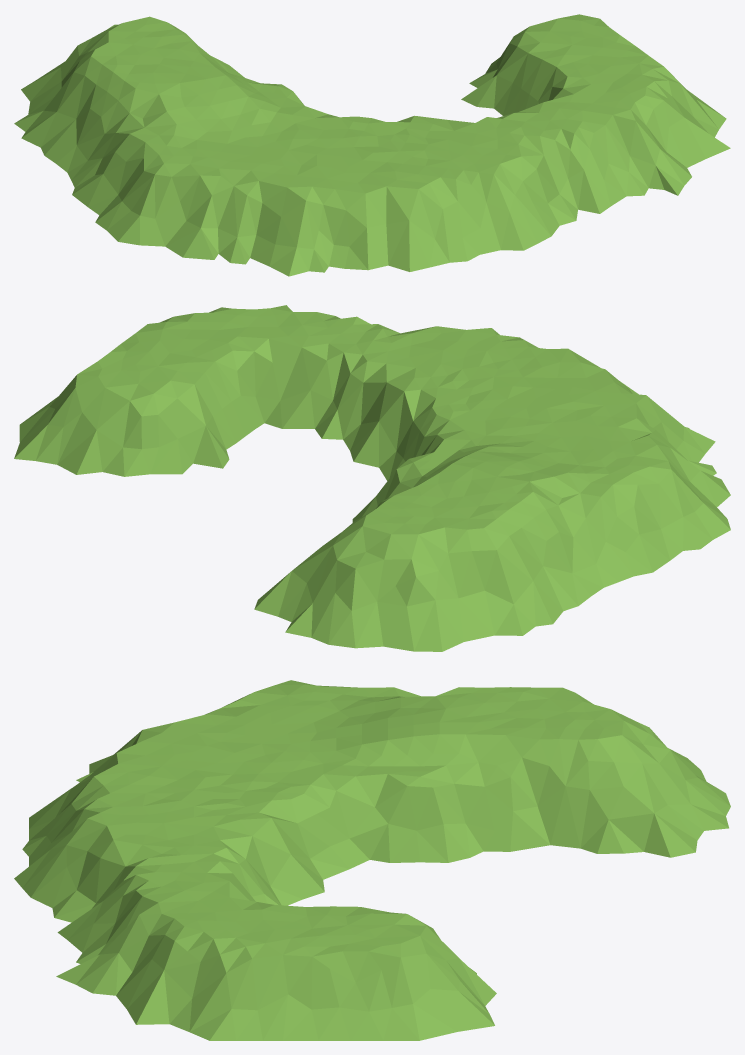
Rendered from MT_Island_L_b_11.fbx.
3 renders of one model, top to bottom at view 1: azimuth 30°, elevation 25°; view 2: azimuth 150°, elevation 25°; view 3: azimuth 270°, elevation 25°, orthographic. The views are drawn at different scales.
Parts seen in each view (by area): view 1: MT_Island_L_b_11; view 2: MT_Island_L_b_11; view 3: MT_Island_L_b_11.
Part boxes in pixels (box(x1,y1,x2,y2)): MT_Island_L_b_11: box(14, 14, 730, 276); MT_Island_L_b_11: box(14, 305, 730, 651); MT_Island_L_b_11: box(14, 680, 730, 1040).
Size of the model in its own units: 9420 by 1092 by 8672.
